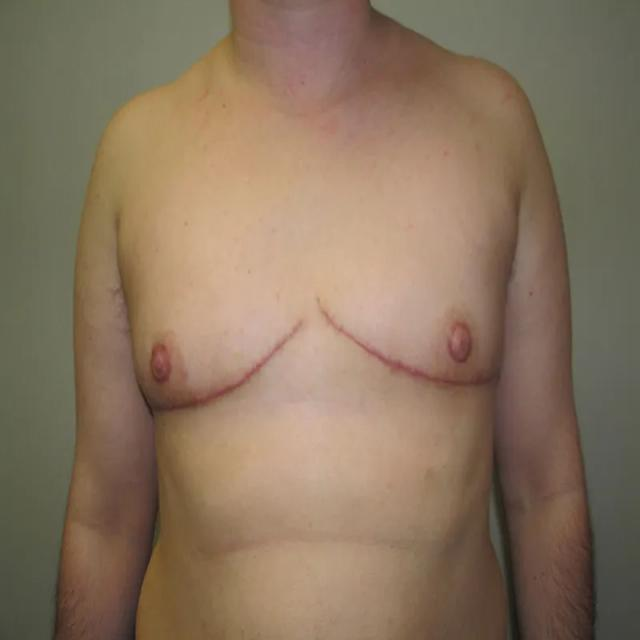Seno herido: (316, 240, 510, 437), (125, 242, 309, 438)
